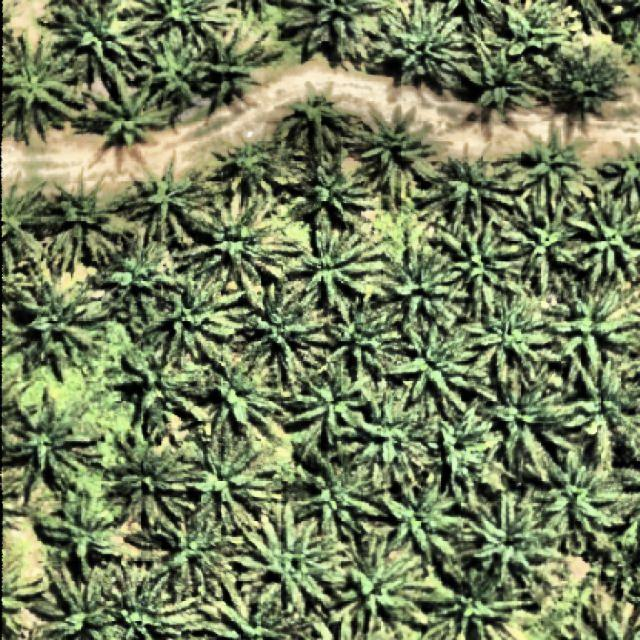Kelapa_Sawit: (189, 189, 308, 306), (330, 540, 452, 640), (4, 388, 106, 503), (238, 516, 354, 615), (98, 426, 204, 534), (115, 328, 218, 434), (489, 363, 578, 485), (290, 438, 393, 540), (463, 492, 574, 586), (354, 100, 452, 205), (149, 266, 251, 366), (189, 426, 283, 534), (139, 508, 247, 602), (376, 473, 482, 567), (247, 283, 336, 388), (78, 61, 178, 154), (289, 147, 374, 255), (392, 317, 488, 412), (526, 449, 623, 543), (128, 150, 217, 252), (294, 222, 389, 316), (48, 171, 132, 274), (458, 31, 551, 120), (547, 282, 640, 371), (16, 274, 109, 362), (470, 297, 562, 385), (382, 240, 469, 332), (319, 292, 404, 385), (534, 40, 632, 120), (503, 204, 588, 296), (356, 390, 432, 492), (514, 119, 598, 210), (444, 218, 522, 314), (437, 140, 520, 228), (203, 352, 292, 434), (37, 488, 131, 564), (101, 239, 184, 324), (136, 30, 218, 115), (200, 18, 278, 106), (440, 396, 508, 496), (569, 196, 640, 290), (216, 129, 298, 208), (288, 374, 376, 444), (282, 80, 360, 148)
